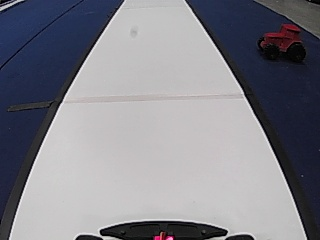tractor: (257, 22, 306, 62)
